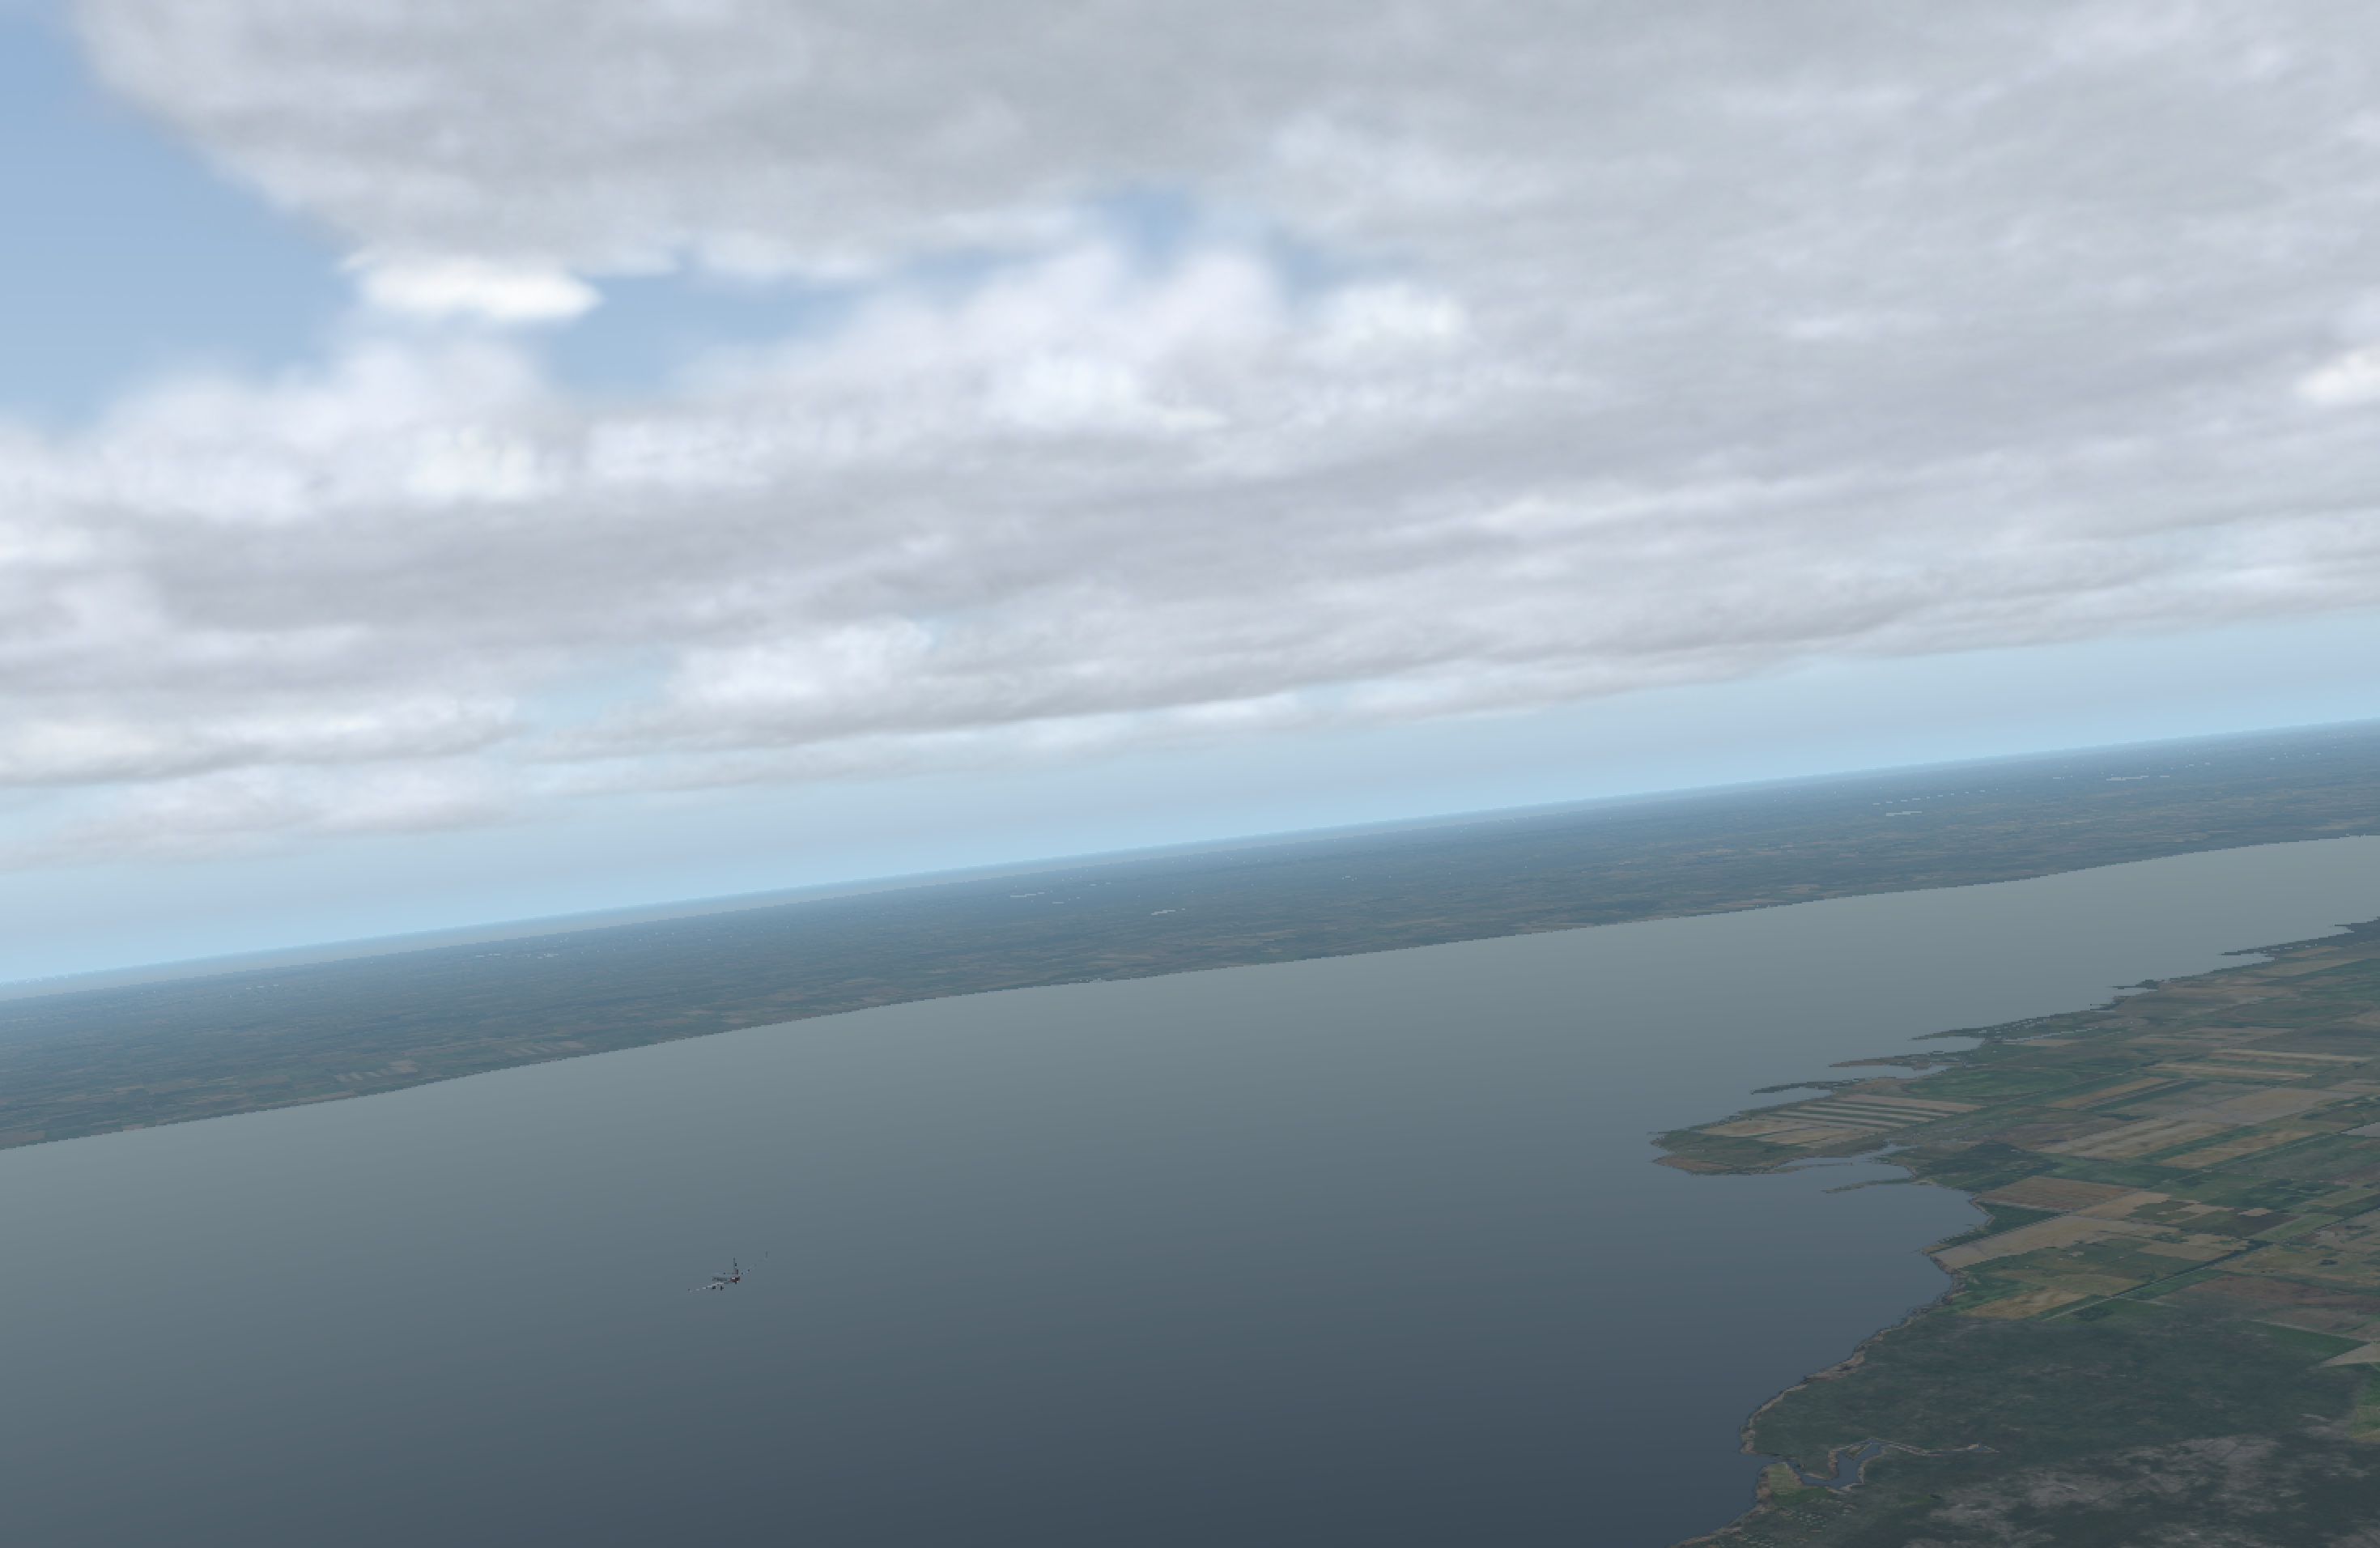aircraft: (680, 1263, 772, 1296)
